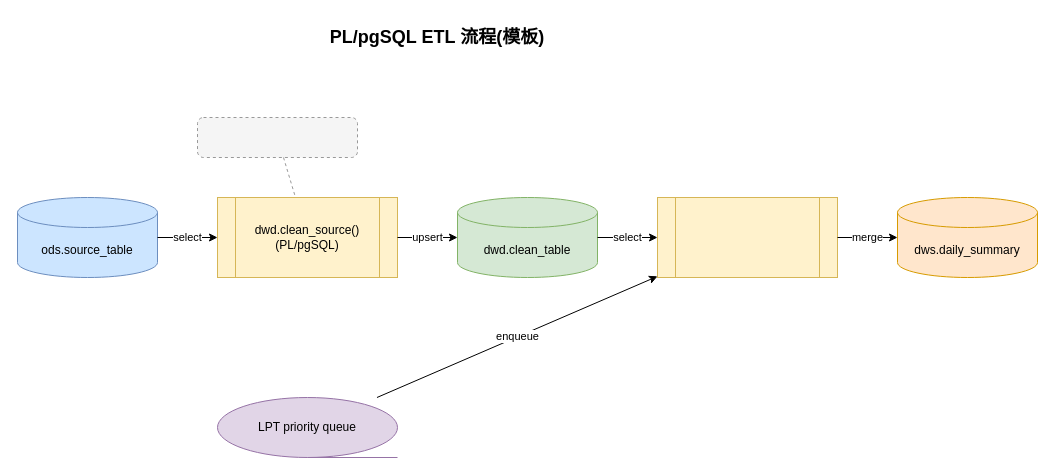
This 1055x475 diagram has some shape labels left out. Here are the shapes that lost their labels. From the top down, the centre of each, then its label:
the point at 277,137: 🔒 advisory_lock(42)
the point at 747,237: dws.agg_daily() (PL/pgSQL)
